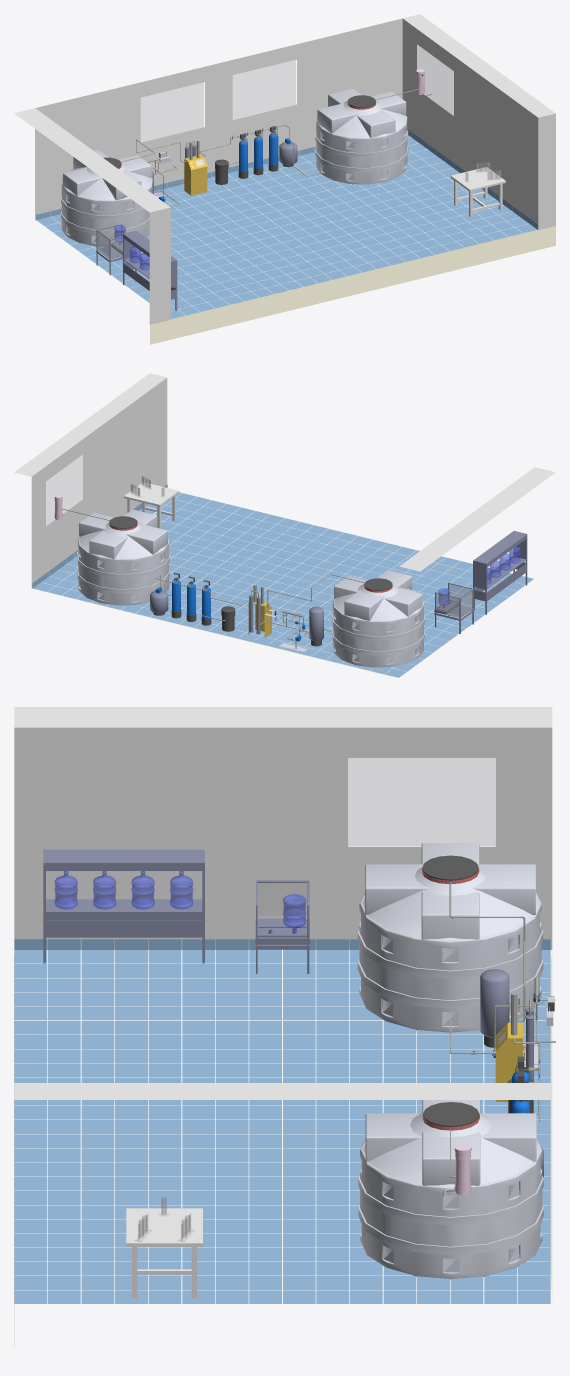
Rendered from demoRoom3.gltf.
3 renders of one model, top to bottom at view 1: azimuth 30°, elevation 25°; view 2: azimuth 150°, elevation 25°; view 3: azimuth 270°, elevation 25°, orthographic. The views are drawn at different scales.
Visible parts, largest first — view 1: Null, 2. Recipiente de agua cruda, 8. Cisterna de agua potabilizadora, 12. Llenado de garrafones, 7. Ósmosis inversa, 11. Lavado de garrafones, 3. Turbidex, 4. Carbón activado; view 2: Null, 2. Recipiente de agua cruda, 8. Cisterna de agua potabilizadora, 12. Llenado de garrafones, 11. Lavado de garrafones, 7. Ósmosis inversa, 4. Carbón activado, 5. Suavizador, 3. Turbidex; view 3: Null, 2. Recipiente de agua cruda, 8. Cisterna de agua potabilizadora, 12. Llenado de garrafones, 11. Lavado de garrafones, 7. Ósmosis inversa, 1. Cloración.
Part boxes in pixels (left/top/right/bottom): Null: left=14, top=14, right=555, bottom=344; 2. Recipiente de agua cruda: left=279, top=88, right=408, bottom=184; 8. Cisterna de agua potabilizadora: left=61, top=149, right=153, bottom=246; 12. Llenado de garrafones: left=123, top=230, right=177, bottom=310; 7. Ósmosis inversa: left=184, top=135, right=233, bottom=195; 11. Lavado de garrafones: left=96, top=224, right=125, bottom=275; 3. Turbidex: left=268, top=126, right=278, bottom=171; 4. Carbón activado: left=253, top=127, right=273, bottom=175; Null: left=14, top=373, right=555, bottom=677; 2. Recipiente de agua cruda: left=77, top=509, right=169, bottom=615; 8. Cisterna de agua potabilizadora: left=332, top=570, right=424, bottom=667; 12. Llenado de garrafones: left=473, top=531, right=527, bottom=614; 11. Lavado de garrafones: left=434, top=582, right=474, bottom=633; 7. Ósmosis inversa: left=207, top=588, right=271, bottom=637; 4. Carbón activado: left=175, top=576, right=196, bottom=621; 5. Suavizador: left=190, top=580, right=211, bottom=625; 3. Turbidex: left=171, top=572, right=181, bottom=618; Null: left=14, top=707, right=555, bottom=1346; 2. Recipiente de agua cruda: left=358, top=1100, right=543, bottom=1279; 8. Cisterna de agua potabilizadora: left=357, top=843, right=543, bottom=1032; 12. Llenado de garrafones: left=43, top=849, right=204, bottom=963; 11. Lavado de garrafones: left=255, top=880, right=309, bottom=973; 7. Ósmosis inversa: left=495, top=1008, right=540, bottom=1101; 1. Cloración: left=454, top=1143, right=471, bottom=1195.
Size of what is drawn, in the model's own units: 11.36 by 3.53 by 6.62.
